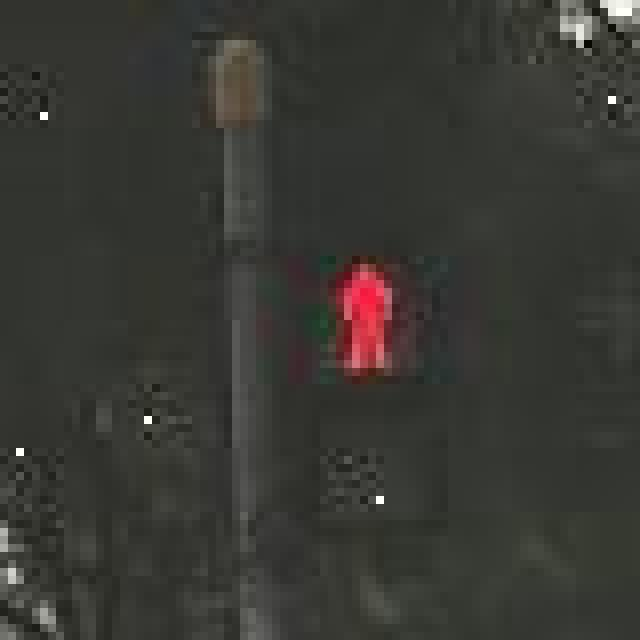redlight: (298, 236, 455, 538)
